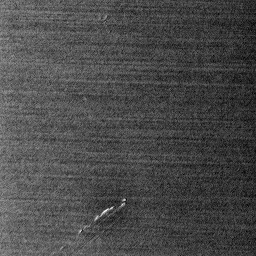sct: (51, 196, 132, 253)
